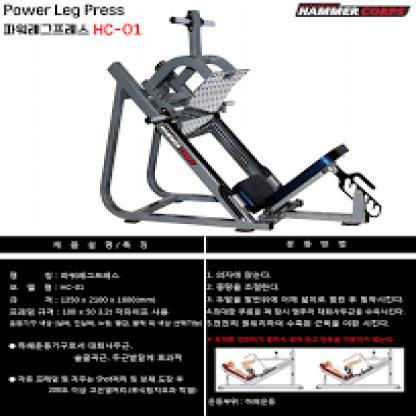leg press: (76, 9, 386, 235)
